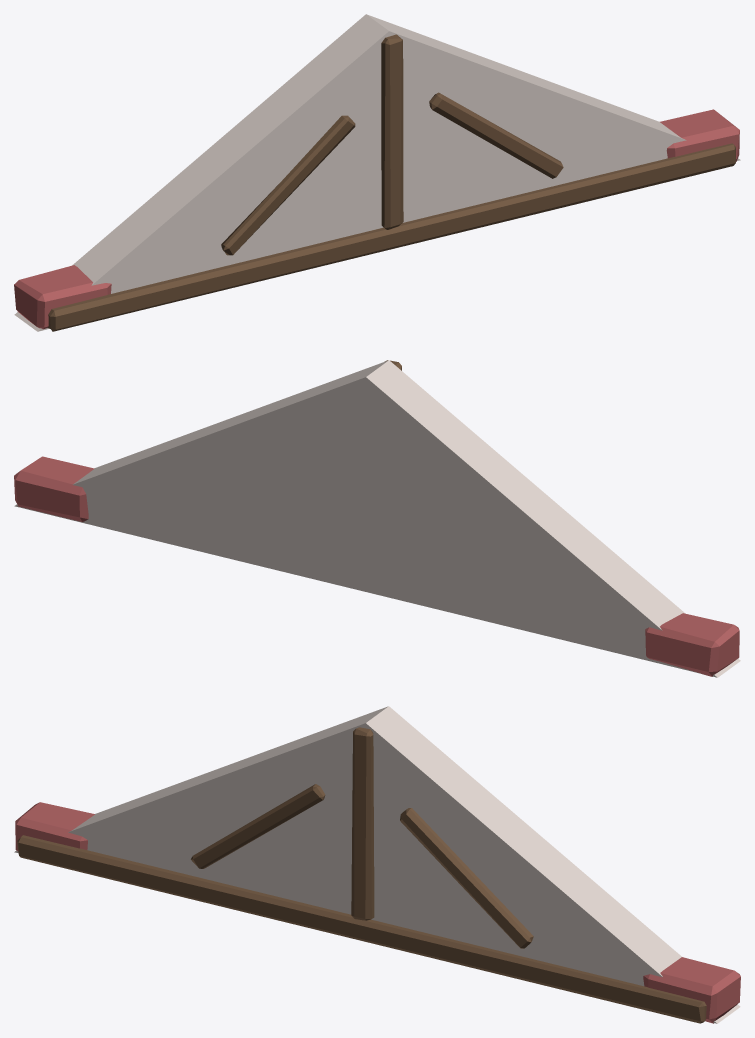
File: PKX_Gable_4m.fbx
3 renders of one model, top to bottom at view 1: azimuth 30°, elevation 25°; view 2: azimuth 150°, elevation 25°; view 3: azimuth 330°, elevation 25°, orthographic.
Visible parts, largest first — view 1: PKX_Gable_4m; view 2: PKX_Gable_4m; view 3: PKX_Gable_4m.
Part boxes in pixels (box(x1,y1,x2,y2)): PKX_Gable_4m: box(14, 14, 740, 331); PKX_Gable_4m: box(14, 360, 740, 677); PKX_Gable_4m: box(14, 706, 740, 1023).
Bounding box in the file's own units: 421 × 123 × 34.39.
